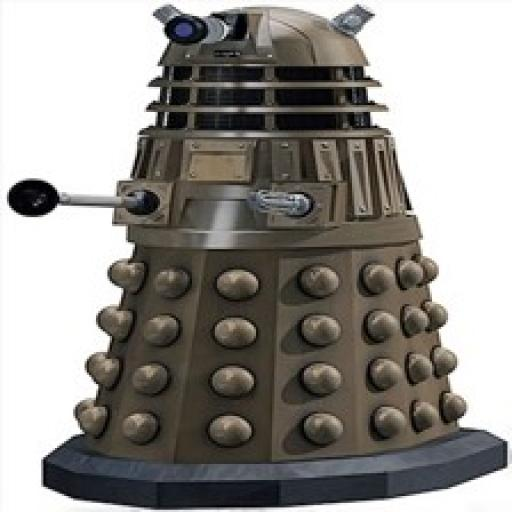dalek: (4, 2, 512, 511)
